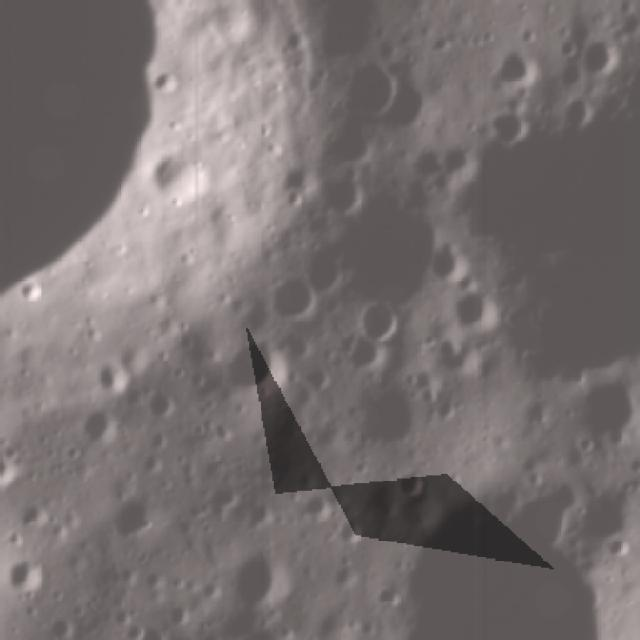crater: (0, 0, 335, 438), (352, 366, 430, 468), (332, 51, 418, 127), (564, 367, 640, 450), (216, 540, 296, 614), (215, 336, 293, 407), (488, 30, 549, 95), (294, 232, 358, 293), (261, 268, 322, 330), (98, 502, 167, 556), (443, 283, 502, 334), (480, 97, 538, 145), (571, 24, 618, 81), (349, 292, 400, 342), (556, 85, 606, 133), (0, 552, 49, 600), (0, 435, 32, 489), (389, 462, 433, 498)
